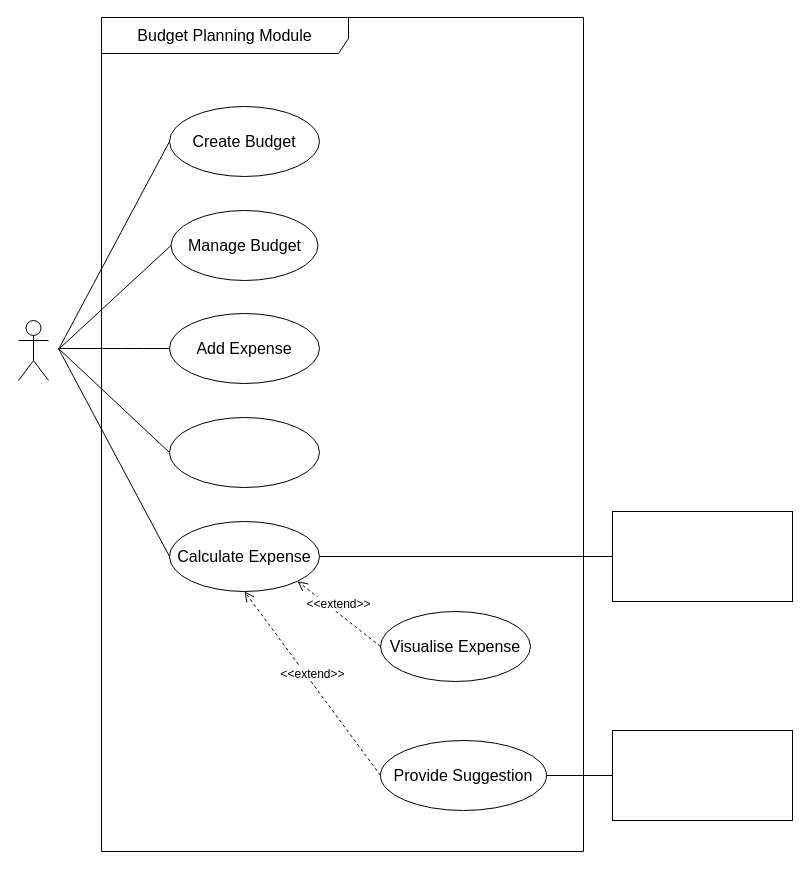
This 810x869 diagram has some shape labels left out. Here are the shapes that lost their labels. From the top down, the centre of each, then its label:
point (33, 350): Staff
point (244, 452): Edit Expenses
point (702, 556): «actor» Expense Calculator System
point (702, 775): «actor» Expense Analysis System
